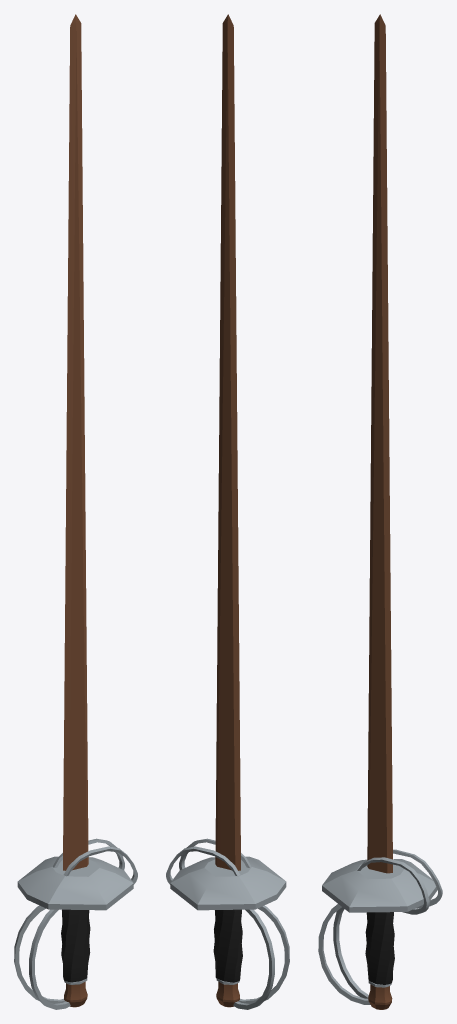
File: SM_Sword13_Rapier_4Bronze.fbx
3 renders of one model, left to right at view 1: azimuth 30°, elevation 25°; view 2: azimuth 150°, elevation 25°; view 3: azimuth 330°, elevation 25°, orthographic.
Parts seen in each view (by area): view 1: Cube.355, Cylinder.454, Cube.356, Cylinder.456, Sphere.135; view 2: Cube.355, Cylinder.454, Cube.356, Cylinder.456, Sphere.135; view 3: Cube.355, Cylinder.454, Cube.356, Cylinder.456, Sphere.135.
Boxes of the visible parts, x1,y1,x2,y2 form: Cube.355: (63,14,88,870); Cylinder.454: (17,856,133,910); Cube.356: (14,838,137,1009); Cylinder.456: (61,909,90,982); Sphere.135: (64,978,87,1007); Cube.355: (215,14,240,870); Cylinder.454: (170,856,286,910); Cube.356: (166,838,289,1009); Cylinder.456: (213,909,242,982); Sphere.135: (216,978,239,1007); Cube.355: (367,14,392,873); Cylinder.454: (322,859,437,912); Cube.356: (318,849,442,1004); Cylinder.456: (365,912,394,984); Sphere.135: (368,981,392,1009).
Bounding box in the file's own units: 0.1179 × 1.03 × 0.1152.
